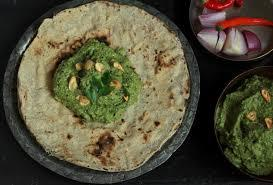bhakri: (16, 0, 195, 176)
salad: (199, 10, 264, 60)
